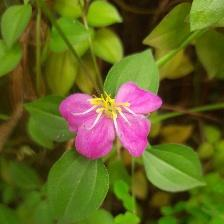malabar melastome: (59, 79, 167, 166)
